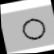no answer: (19, 16, 47, 42)
